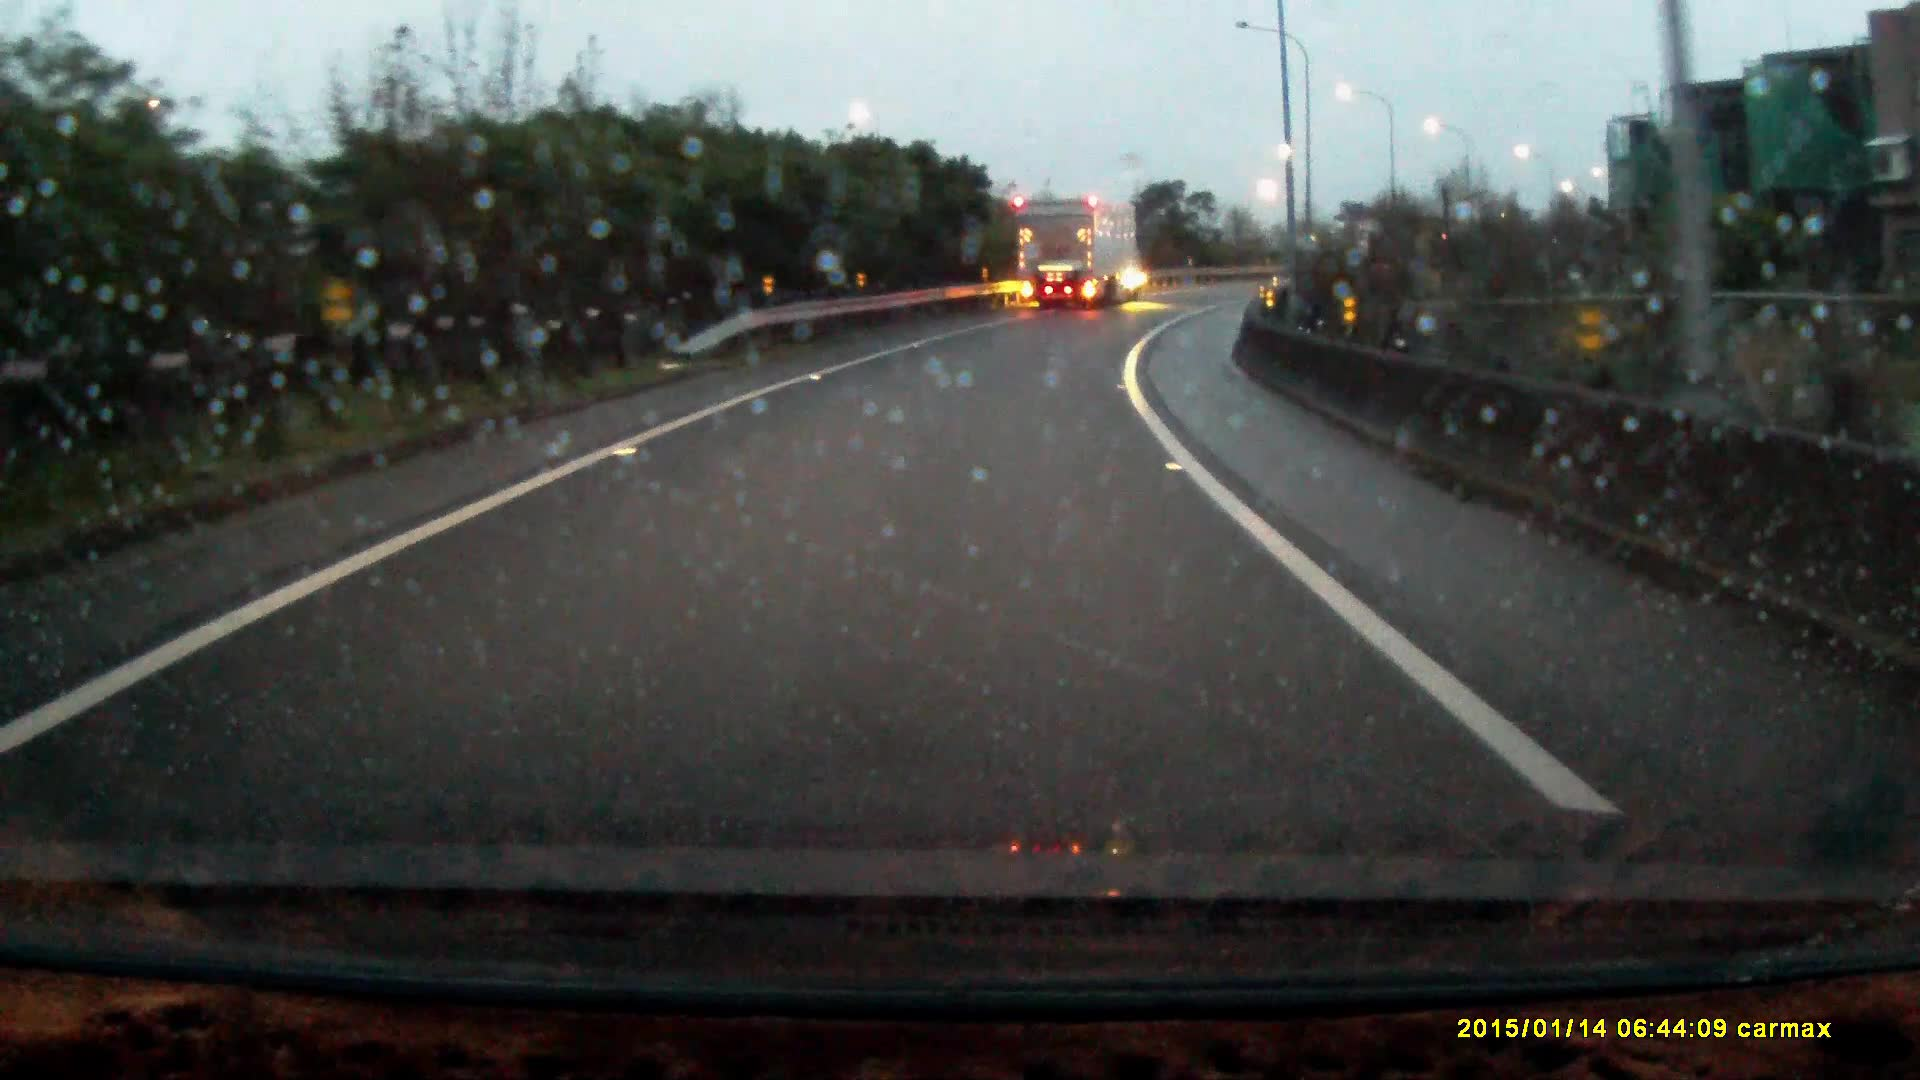vehicle: (1018, 191, 1151, 305)
